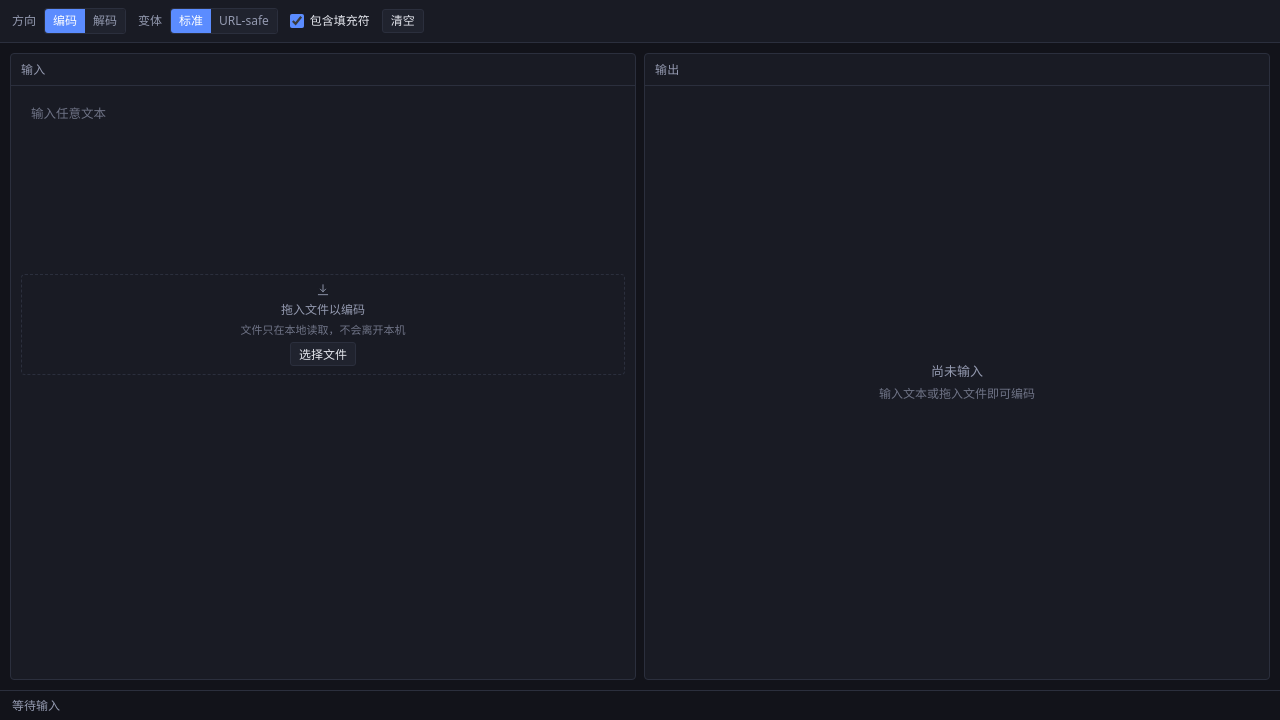
Test: Base64 工具 › 非法 Base64 给出错误提示且不给结果
The width and height of the screenshot is (1280, 720).
Click the button "解码".
click(105, 21)  # box 85,9 -> 125,33
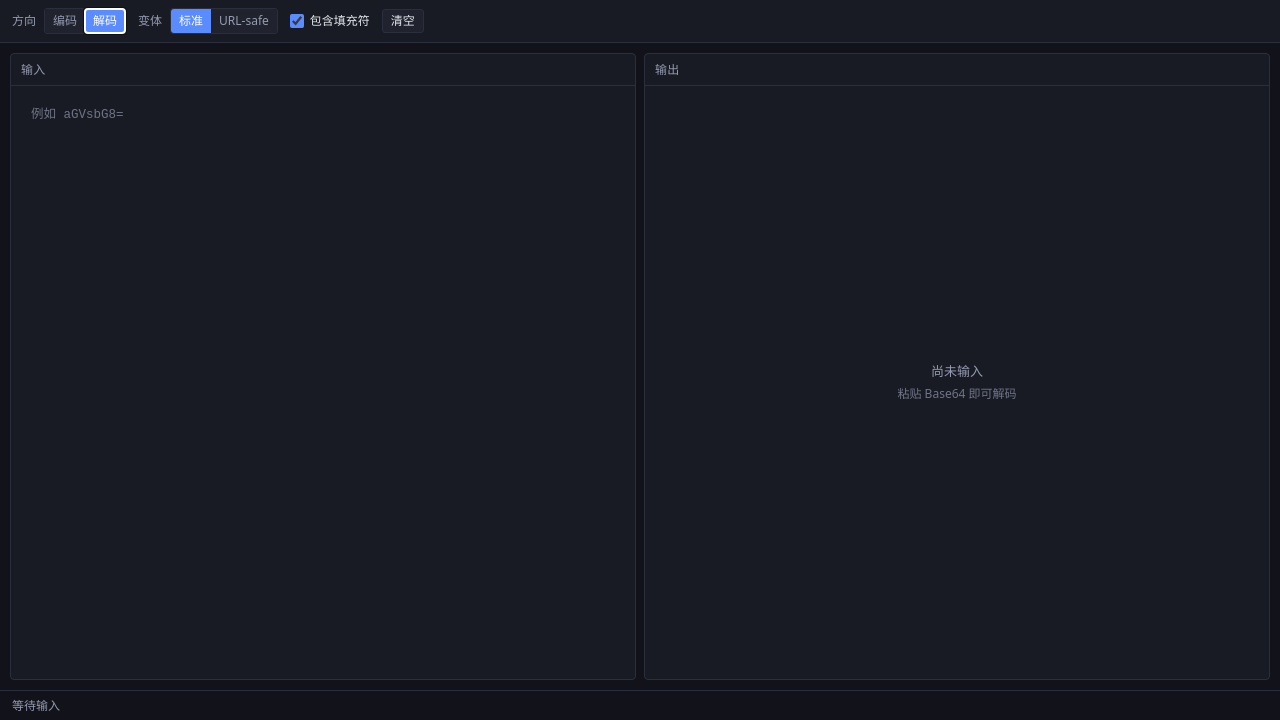
Type "abc!@#" into the text box named "待解码的 Base64".
click(323, 181); type("abc!@#")  # box 21,96 -> 625,266
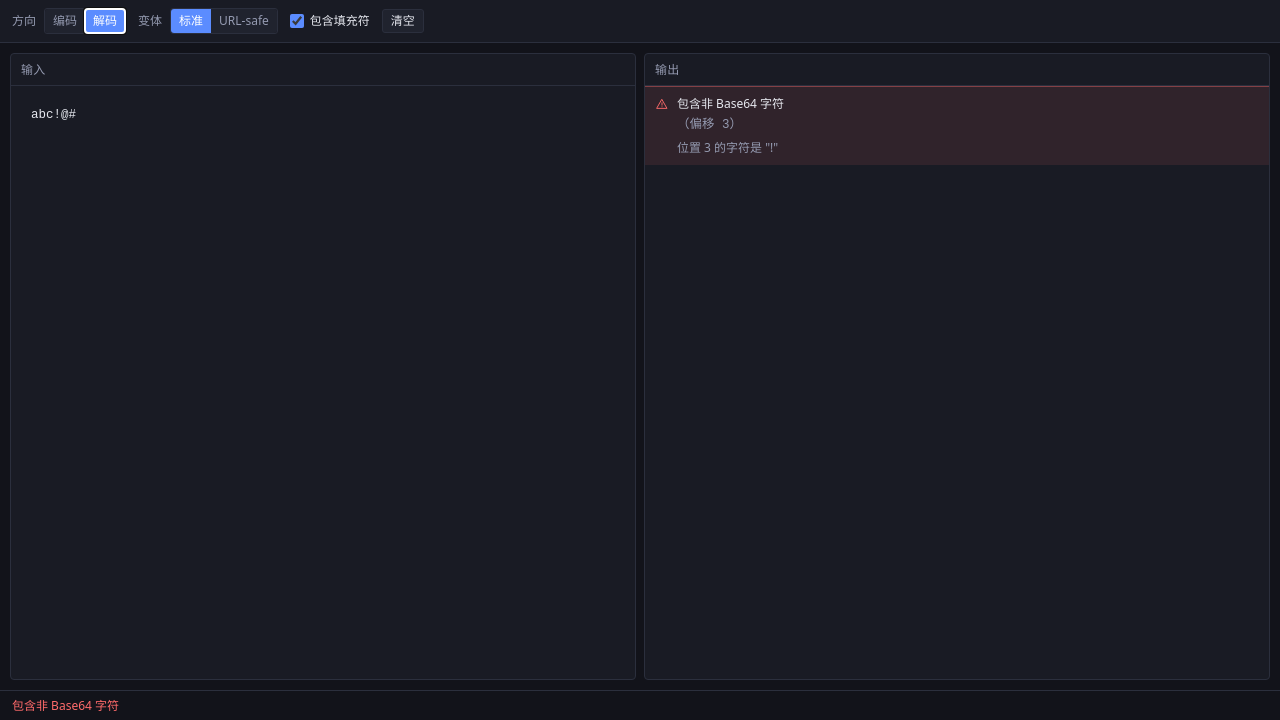
Expected: the message shows "非 Base64 字符", 677,95 -> 784,112
